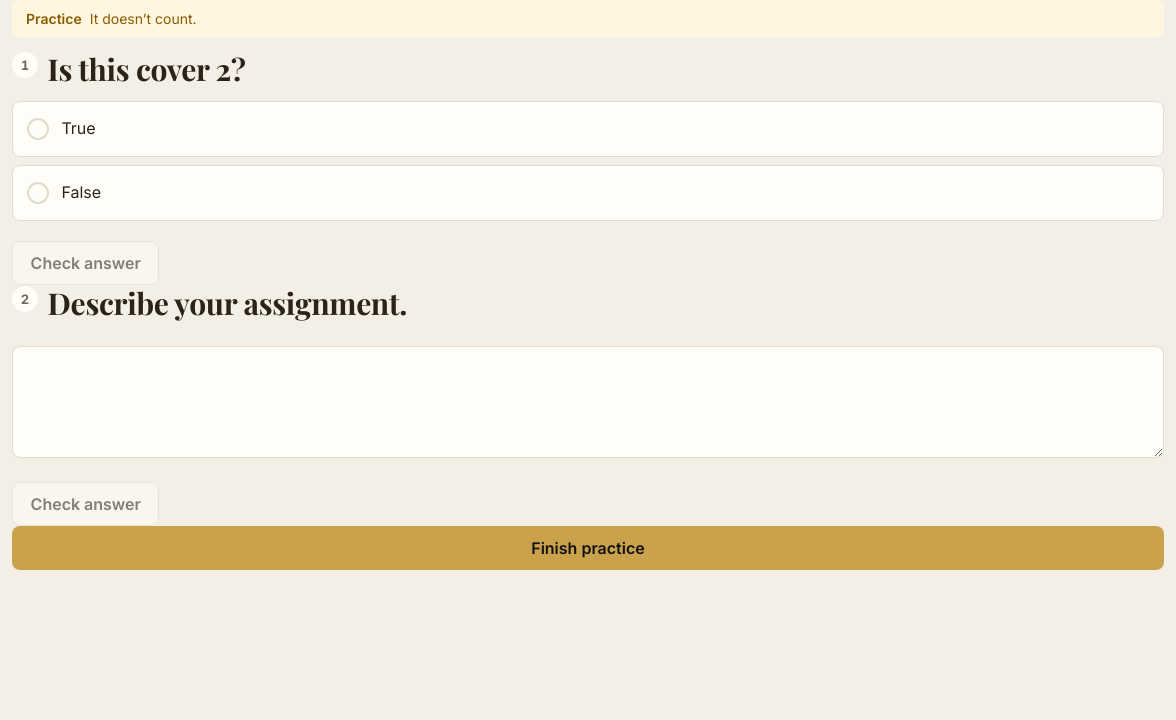
Test case: Practice Mode player flow › shows the verdict and the coach explanation once checked
Click the radio button labelled "True". click: (38, 129)
box: [27, 118, 49, 140]
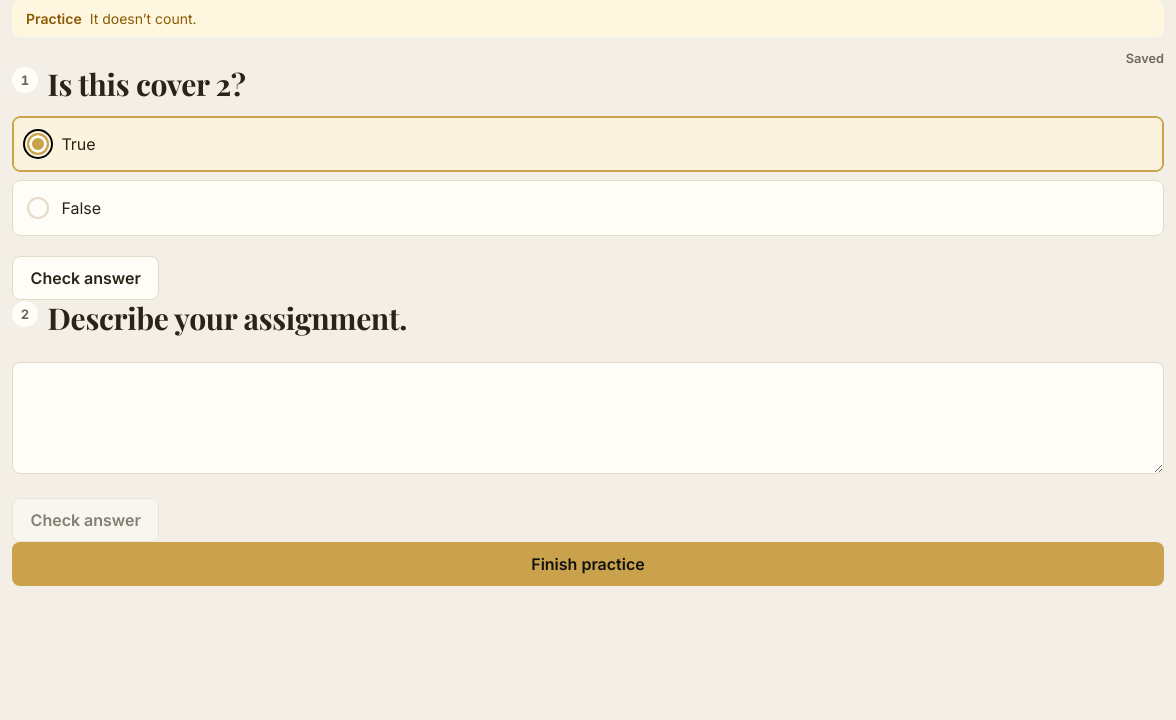
Click the button "Check answer" below "False". click: (86, 278)
box: [12, 256, 160, 300]
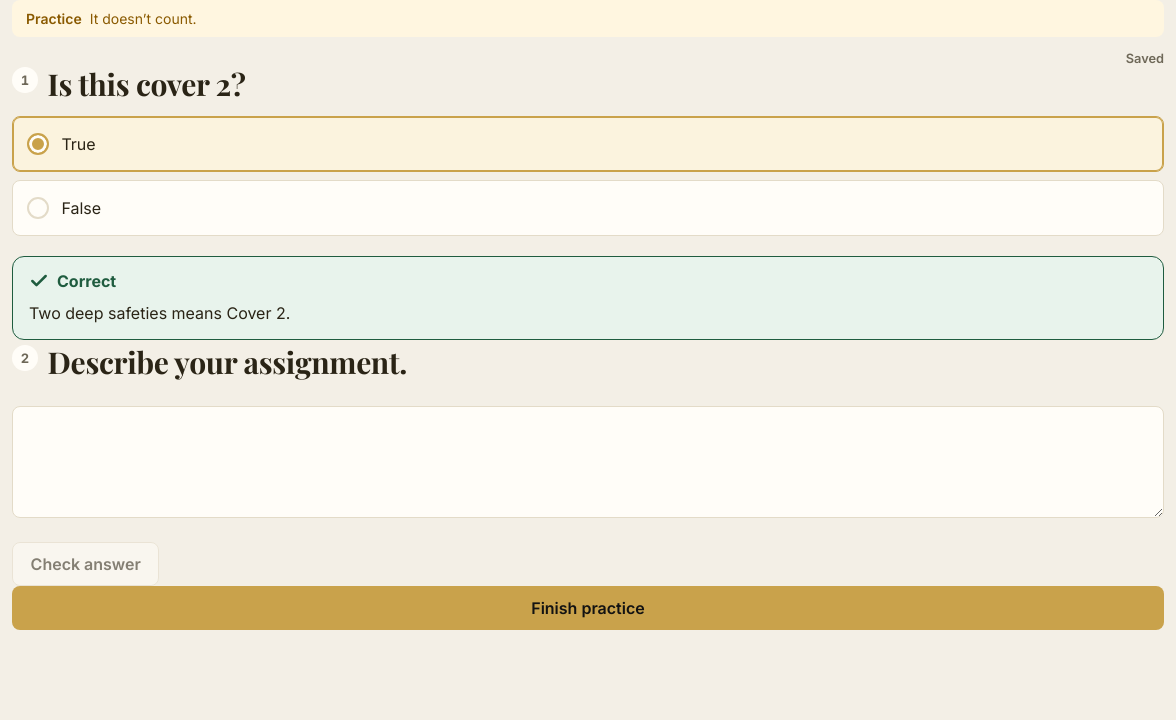
Expected: the text "Correct" is shown, [57, 271, 116, 291]
Expected: the text "Two deep safeties means Cover 2." is shown, [29, 303, 290, 323]
